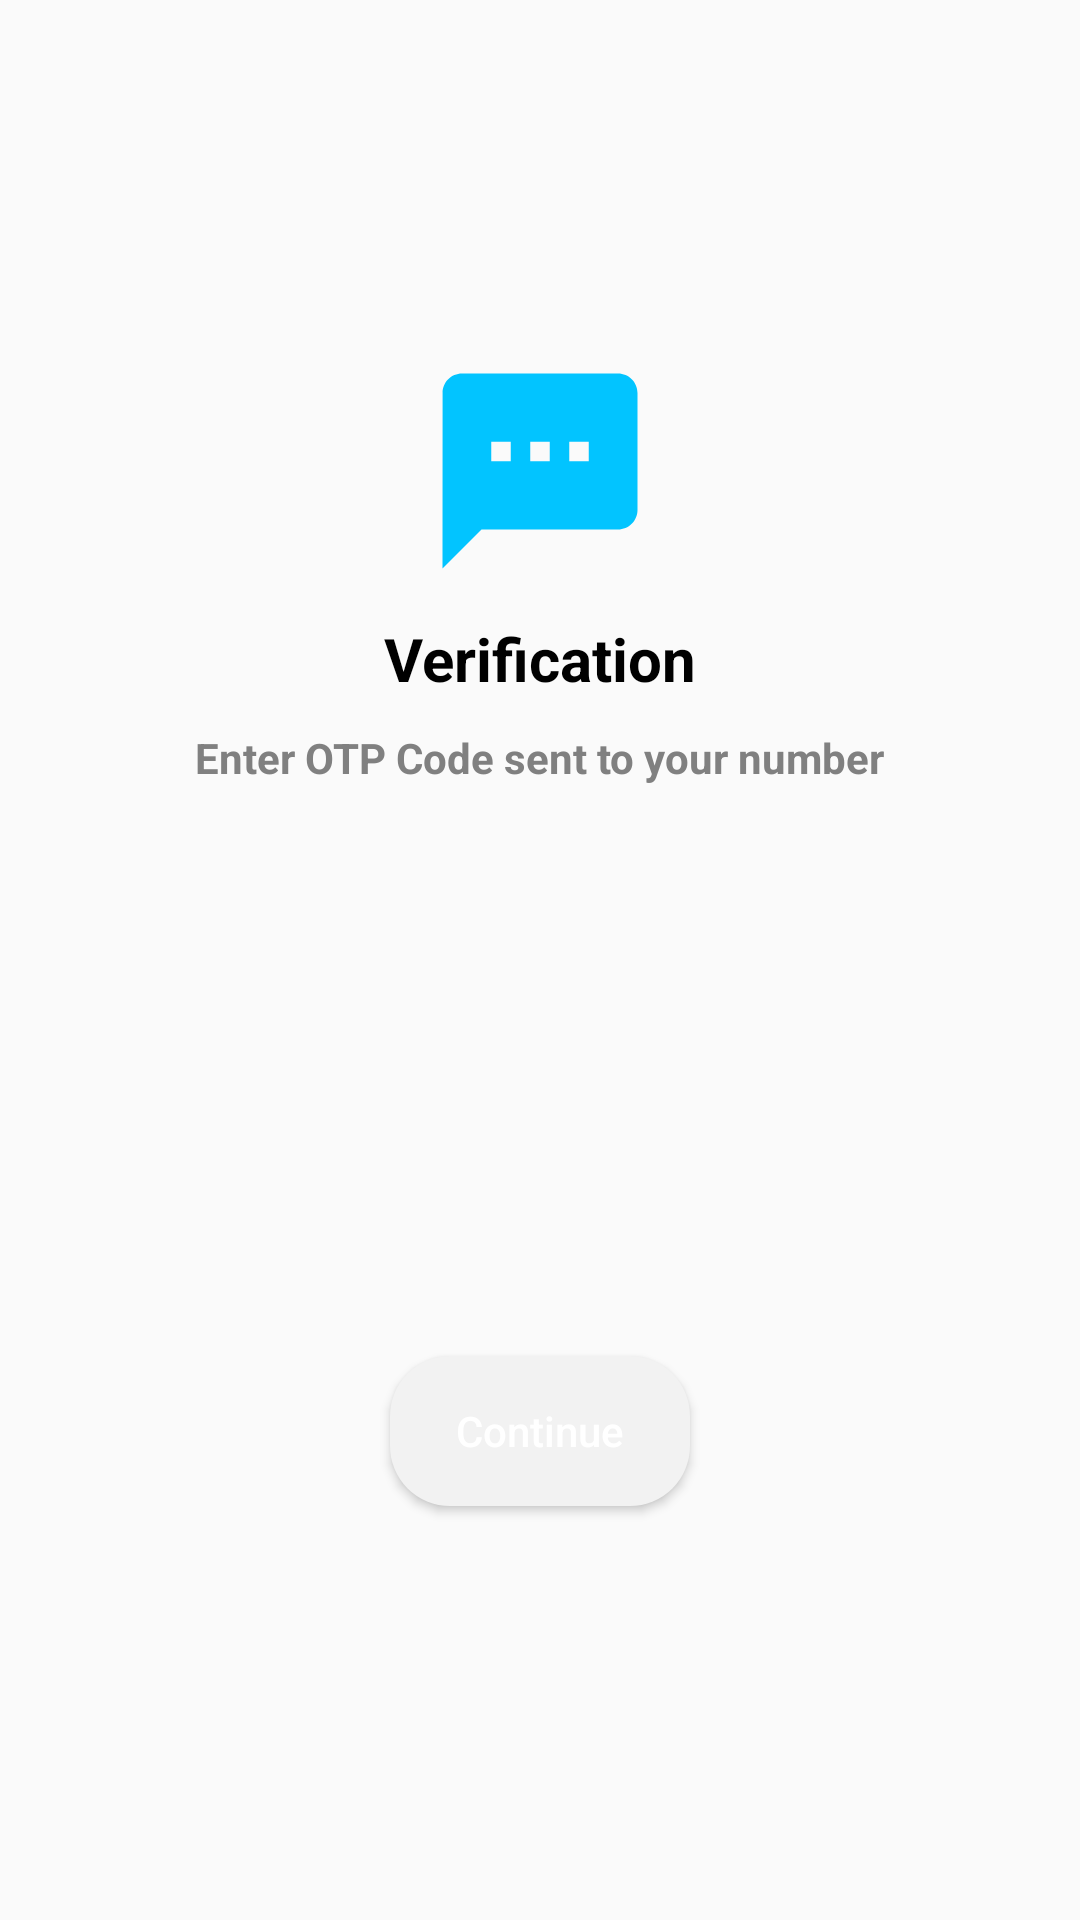

Screen size 1080 x 1920. Icon name, then its box in pixels as (left=x1, top=y1, right=x2, bottom=y2):
textsms: (left=442, top=373, right=638, bottom=569)
